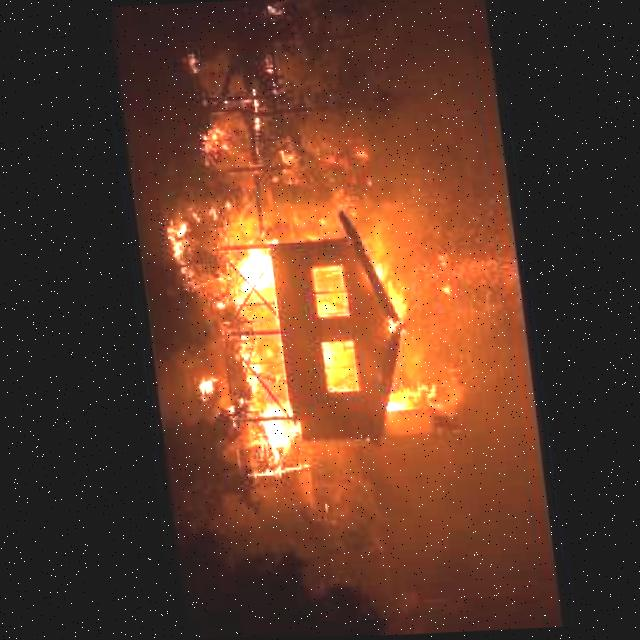Fire: (236, 395, 299, 465), (363, 248, 416, 325), (371, 377, 444, 423), (224, 247, 279, 308)
